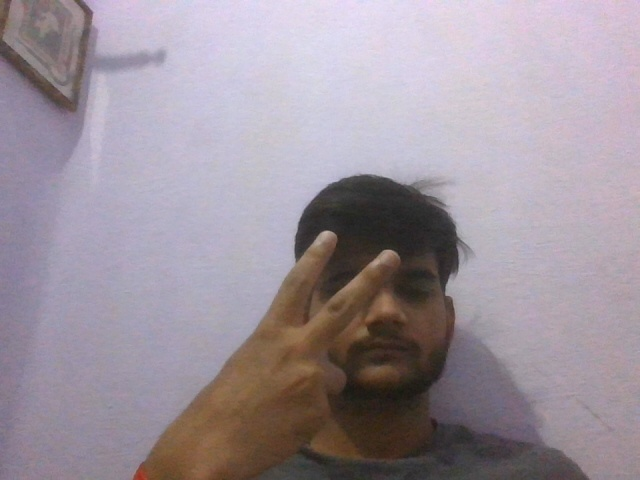yes: (163, 220, 403, 480)
